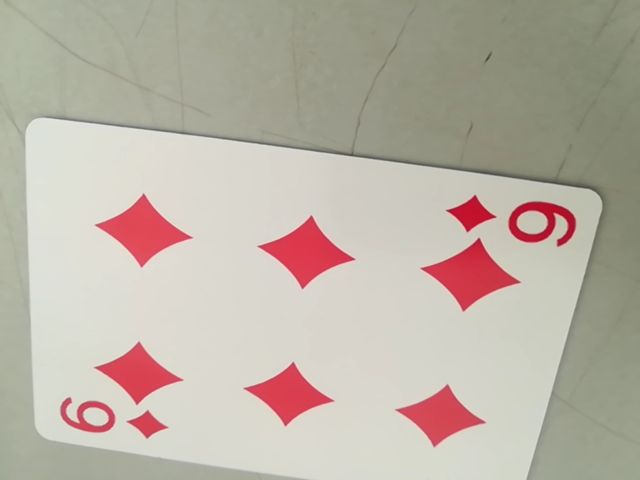fk 6: (447, 191, 580, 246), (50, 393, 172, 447)
